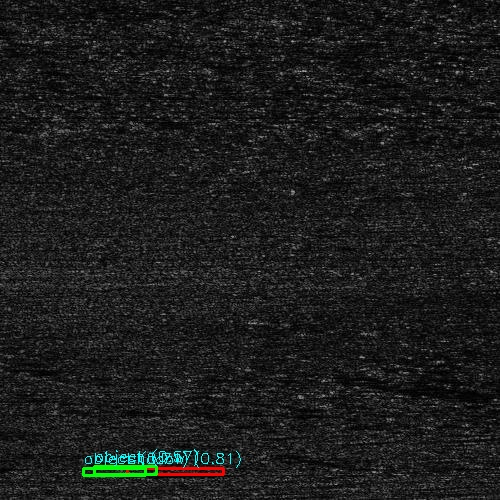rock: (98, 467, 119, 474)
shadow: (109, 467, 174, 474)
